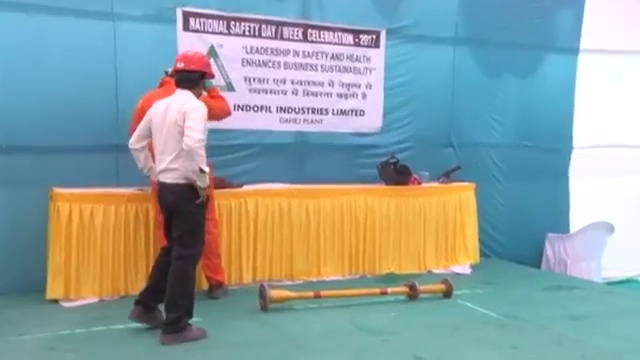helmet: (172, 49, 217, 80)
helmet_on: (172, 49, 217, 100)
person: (132, 50, 209, 342)
